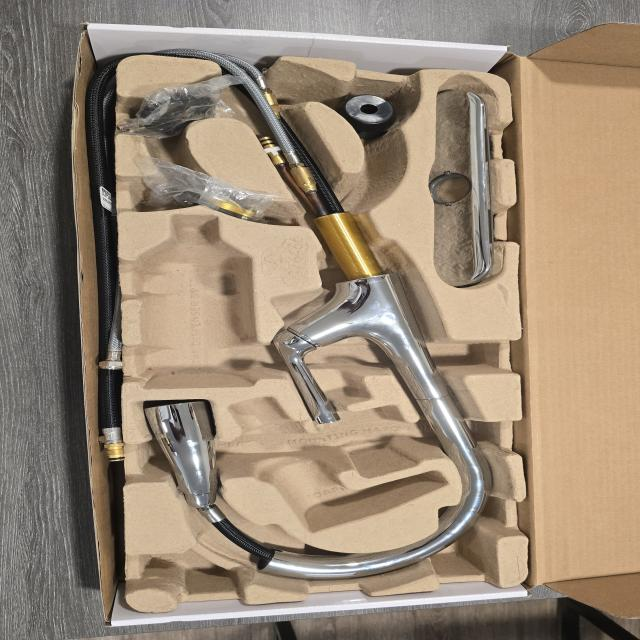1: (145, 55, 493, 581)
2m: (228, 395, 448, 533)
3m: (136, 215, 255, 390)
4: (427, 90, 493, 286)
5: (336, 94, 396, 143)
6: (135, 152, 279, 219)
7: (110, 75, 253, 141)
